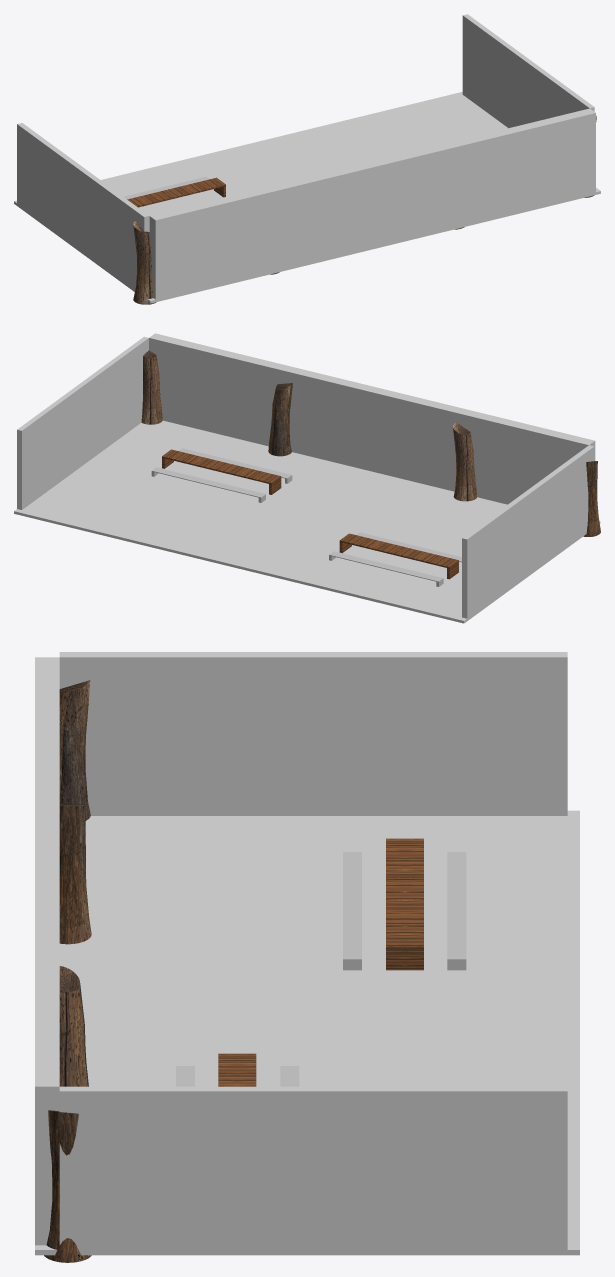
File: room.dae
3 renders of one model, top to bottom at view 1: azimuth 30°, elevation 25°; view 2: azimuth 150°, elevation 25°; view 3: azimuth 270°, elevation 25°, orthographic. The views are drawn at different scales.
Parts seen in each view (by area): view 1: static-col, post.003-col, table; view 2: static-col, table, table.001, post.002-col, post-col, post.001-col, post.003-col, bench, bench.004, bench.002, bench.003; view 3: static-col, table, post.002-col, post.003-col, post-col, post.001-col, bench.004, bench.003, table.001.
Boxes of the visible parts, x1,y1,x2,y2 form: static-col: (14, 14, 600, 303); post.003-col: (133, 221, 156, 304); table: (127, 177, 225, 207); static-col: (14, 333, 600, 623); table: (339, 533, 458, 579); table.001: (162, 449, 281, 494); post.002-col: (453, 422, 477, 501); post-col: (268, 383, 292, 456); post.001-col: (141, 350, 162, 424); post.003-col: (583, 461, 600, 536); bench: (151, 467, 265, 502); bench.004: (329, 551, 443, 586); bench.002: (179, 448, 292, 483); bench.003: (356, 532, 461, 562); static-col: (35, 652, 579, 1255); table: (386, 838, 423, 970); post.002-col: (59, 804, 91, 944); post.003-col: (59, 680, 90, 820); post-col: (59, 966, 88, 1086); post.001-col: (44, 1110, 91, 1262); bench.004: (447, 852, 466, 970); bench.003: (343, 852, 361, 970); table.001: (218, 1053, 256, 1086).
Size of what is drawn, in the model's own units: 41.83 by 21.49 by 7.36.
